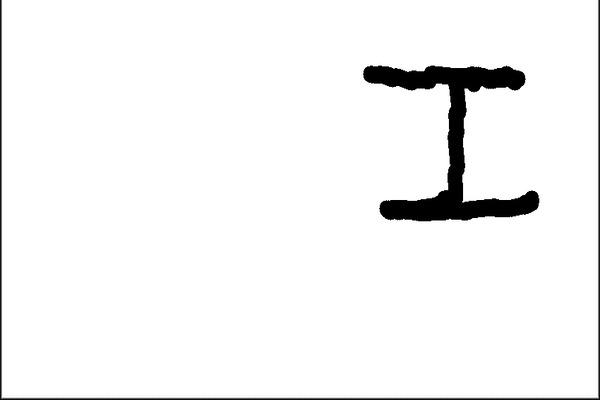i: (352, 54, 541, 225)
